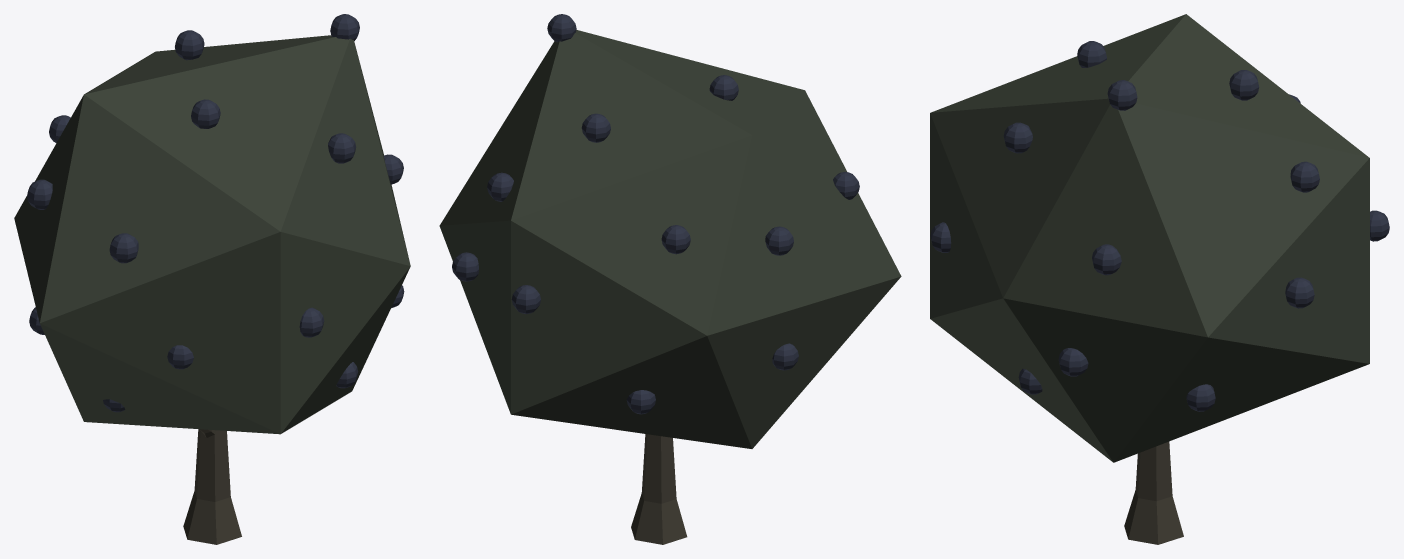
File: BlueFruitBush.fbx
3 views of the same model, side by side, from view 1: azimuth 30°, elevation 25°; view 2: azimuth 150°, elevation 25°; view 3: azimuth 270°, elevation 25° (orthographic). The views are drawn at different scales.
Visible parts, largest first — view 1: BlueFruitBush; view 2: BlueFruitBush; view 3: BlueFruitBush.
Boxes of the visible parts, box(x1,y1,x2,y2) form: BlueFruitBush: box(14, 14, 410, 544); BlueFruitBush: box(439, 14, 901, 544); BlueFruitBush: box(930, 14, 1389, 544).
Size of the model in its own units: 43.9 by 50.39 by 41.33.
